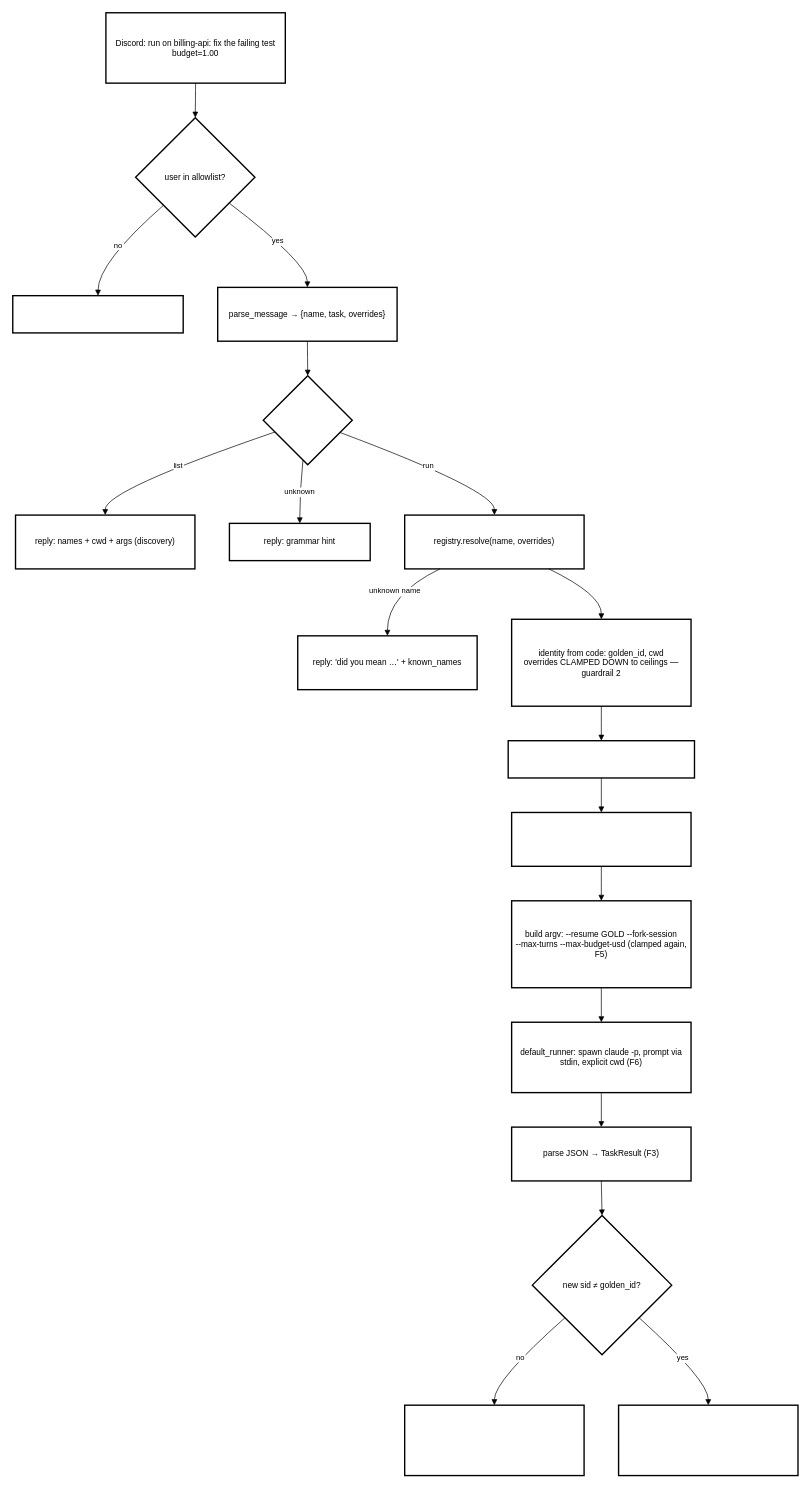
This 810x1488 diagram has some shape labels left out. The shapes that lost their labels are listed below. From the top down, each one's box as (x1, y1, x2, y2) in pixels, then its label:
(12, 295, 184, 333): ⛔ rejected — guardrail 1
(262, 375, 353, 465): command?
(507, 740, 695, 778): GoldenSession.run_task(task)
(511, 811, 691, 867): resolve_run_dir → mkdir, export GS_RUN_DIR (F12)
(404, 1404, 584, 1476): raise SessionNotFoundError — the fork did not branch (F9)
(618, 1404, 798, 1476): reply: status, terminal_reason, cost_usd, session_id, run_dir
